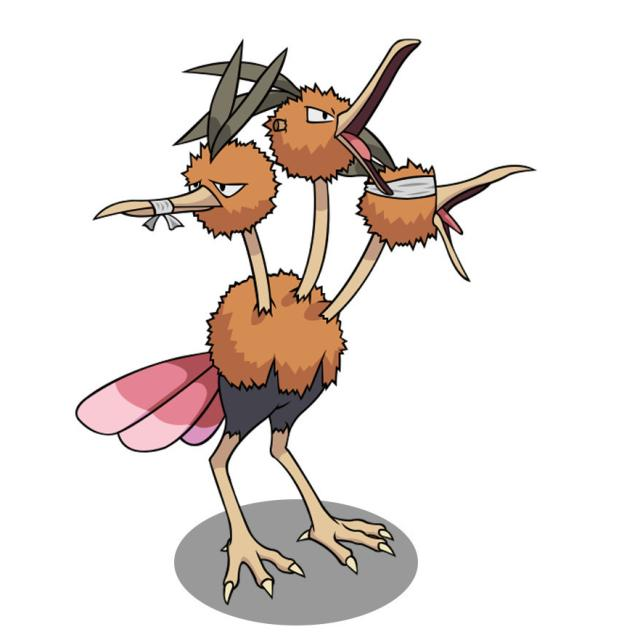Dodrio: (99, 37, 474, 602)
